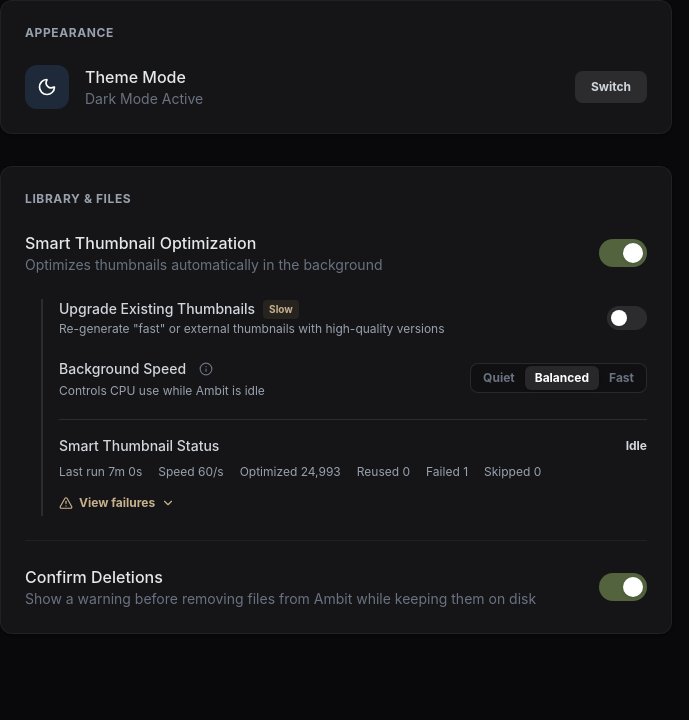
Test: GeneralTab Smart Thumbnail details › lazy loads failed thumbnail details and retries all failures
What coordinates should you click on to do the following:
click the button "View failures"
I would click on:
 (117, 503)
Its box is [59,495,175,511].
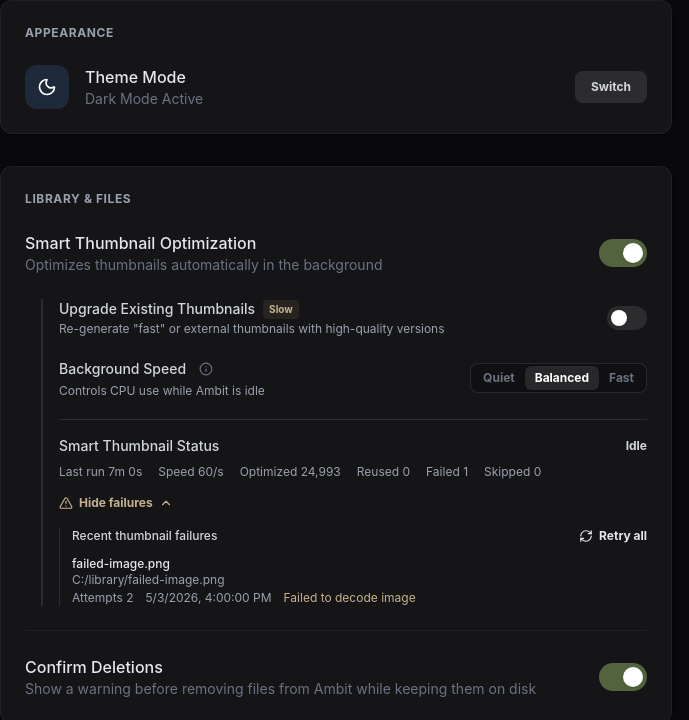
expect the text "failed-image.png" is shown: met, box [72,556,170,571]
expect the text "Failed to decode image" is shown: met, box [284,590,416,606]
What coordinates should you click on to do the following:
click the button "Retry all"
I would click on:
 (613, 536)
Its box is [579,528,647,544].
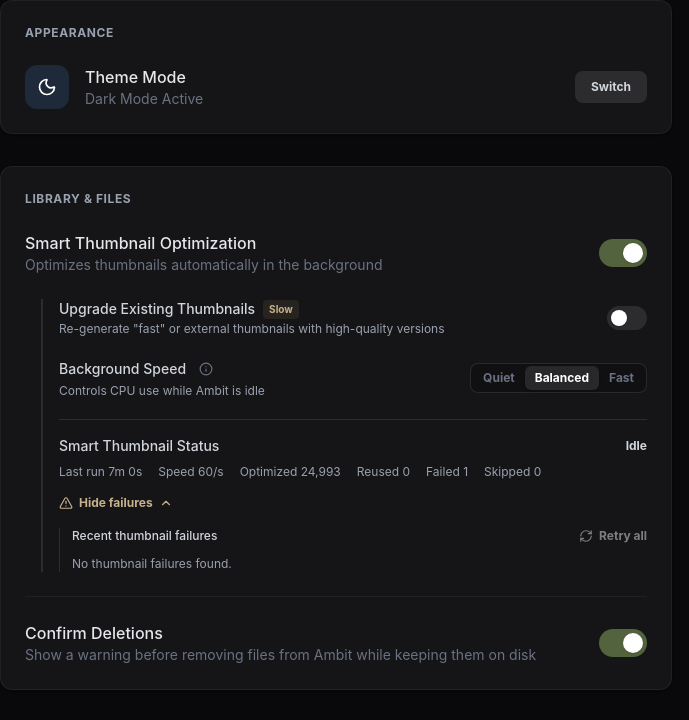
expect the text "No thumbnail failures found." is shown: met, box [72,556,232,571]
